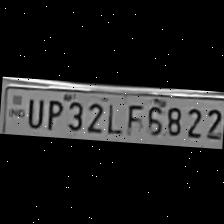2: (201, 104, 222, 138), (84, 97, 104, 132), (182, 103, 203, 136)
3: (62, 96, 84, 131)
6: (142, 100, 162, 136)
8: (162, 102, 183, 136)
F: (122, 99, 143, 134)
L: (103, 97, 123, 133)
P: (42, 95, 62, 129)
U: (22, 94, 44, 127)
